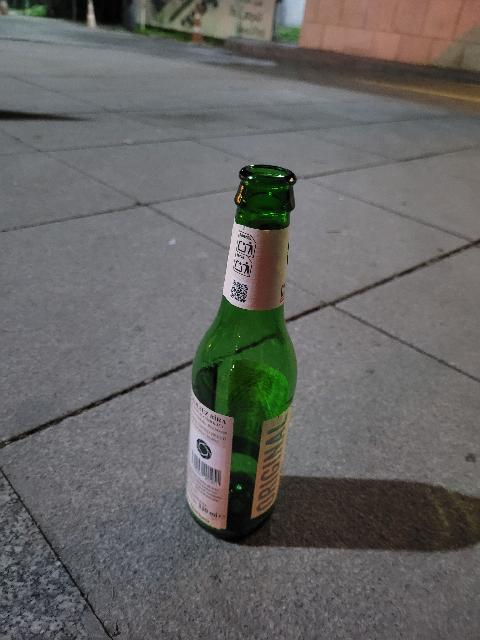Cam: (176, 154, 308, 543)
